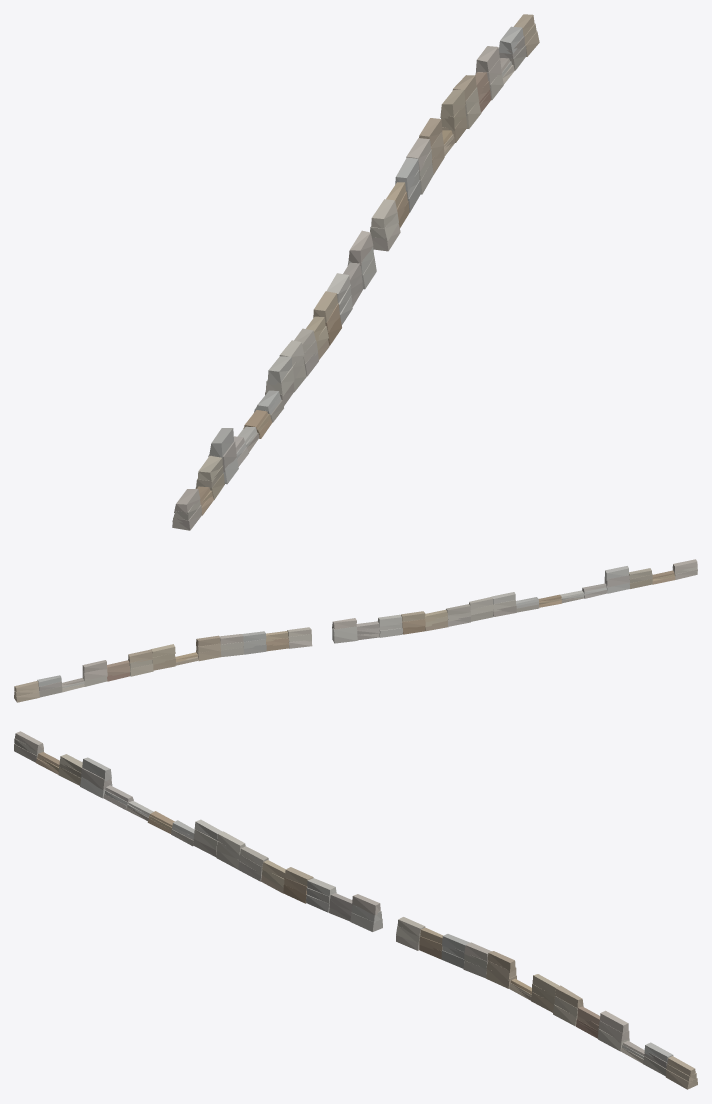
File: farm_-25_-29_mid.glb
3 views of the same model, one above another, from view 1: azimuth 30°, elevation 25°; view 2: azimuth 150°, elevation 25°; view 3: azimuth 270°, elevation 25° (orthographic). The views are drawn at different scales.
Parts seen in each view (by area): view 1: geometry_0; view 2: geometry_0; view 3: geometry_0.
Boxes of the visible parts, <box> form: geometry_0: <box>172,14,539,530</box>; geometry_0: <box>14,559,697,702</box>; geometry_0: <box>14,731,697,1089</box>.
Size of the model in its own units: 33.53 by 4.46 by 34.44.
